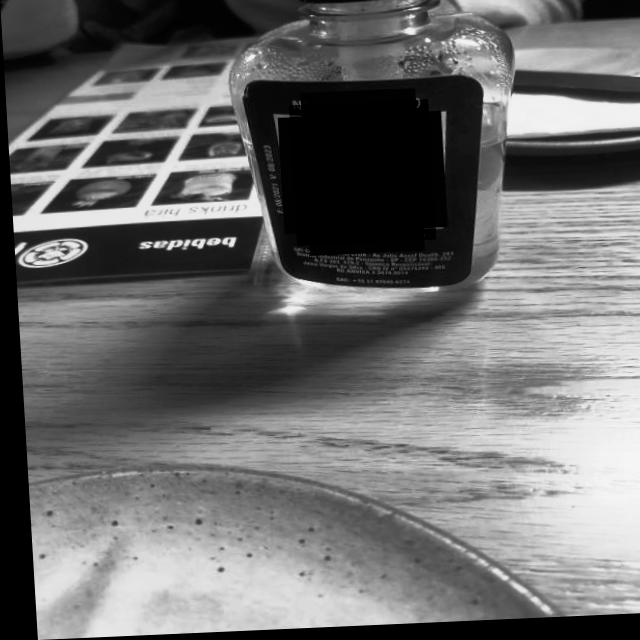qr_code: (287, 103, 433, 248)
